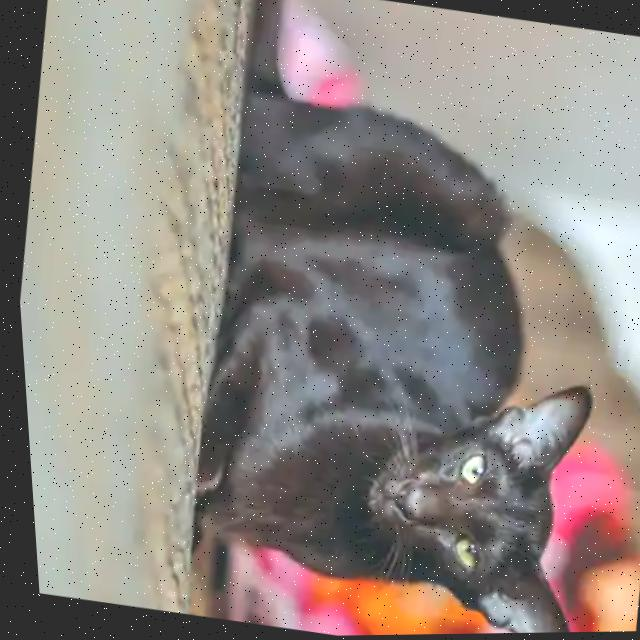Oriental: (139, 0, 640, 638)
